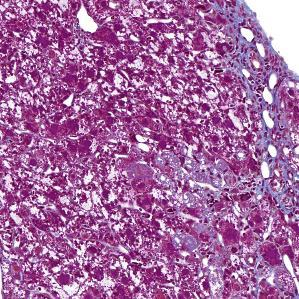fibrosis: (235, 55, 286, 142)
